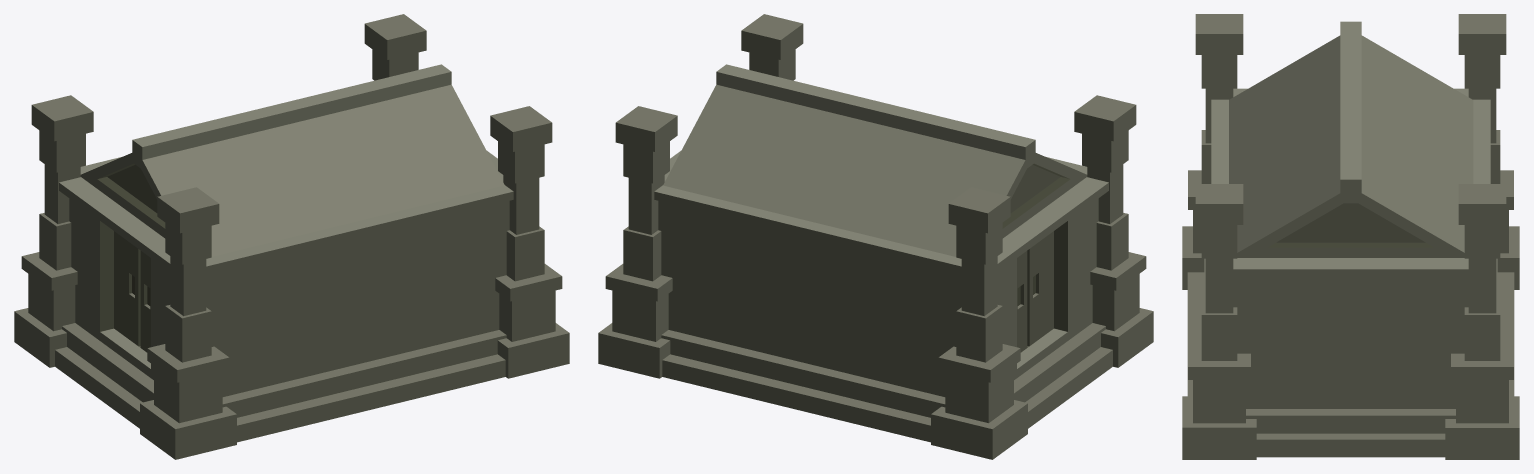
File: Model_Undead_3x2A.fbx
3 views of the same model, side by side, from view 1: azimuth 30°, elevation 25°; view 2: azimuth 150°, elevation 25°; view 3: azimuth 270°, elevation 25° (orthographic). The views are drawn at different scales.
Visible parts, largest first — view 1: Model_Frost_3x2A; view 2: Model_Frost_3x2A; view 3: Model_Frost_3x2A.
Part boxes in pixels (x1=…): Model_Frost_3x2A: x1=14, y1=14, x2=569, y2=459; Model_Frost_3x2A: x1=598, y1=14, x2=1153, y2=459; Model_Frost_3x2A: x1=1182, y1=14, x2=1519, y2=459.
Bounding box in the file's own units: 562 × 336 × 398.
Materials: 1 (1 with a texture image).
